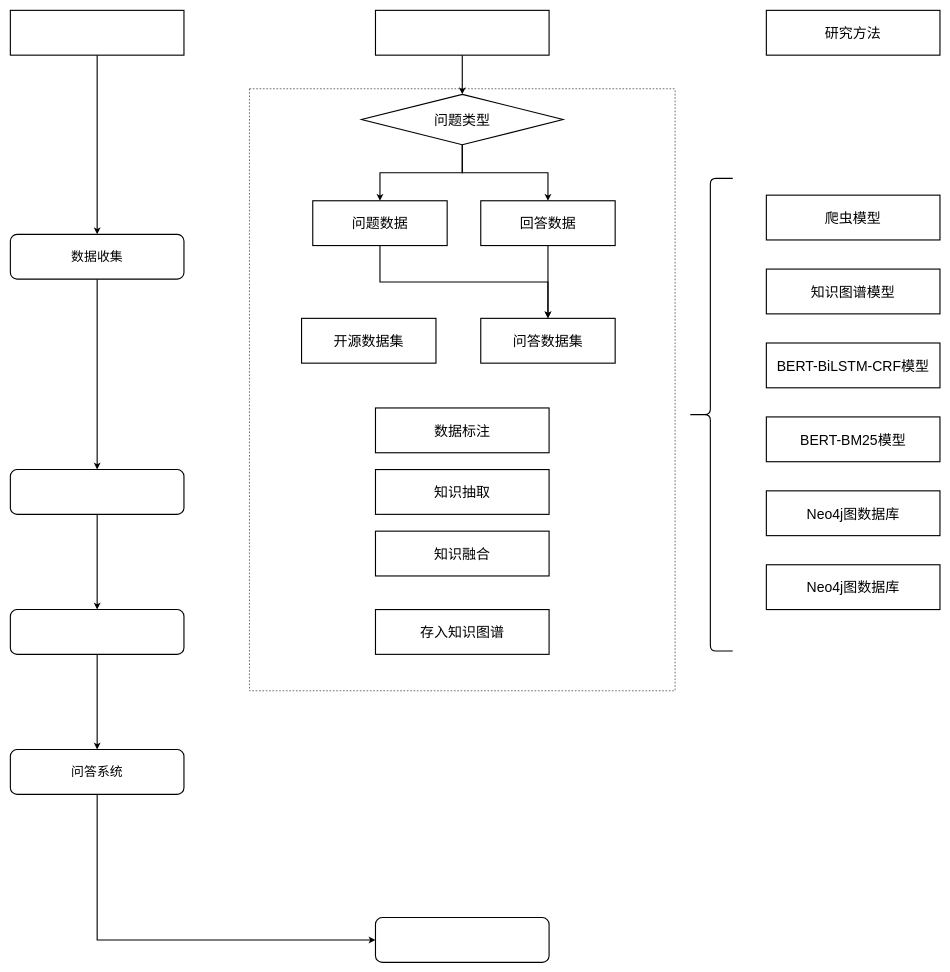
The diagram is 950 pixels wide and 972 high, and some of its shapes have lost their labels. Here are the shapes that lost their labels. From the top down, the centre of each, then its label:
(x=97, y=32): 研究思路
(x=462, y=32): 研究内容
(x=97, y=492): 数据处理
(x=97, y=632): 数据存储与可视化
(x=462, y=940): 总结
